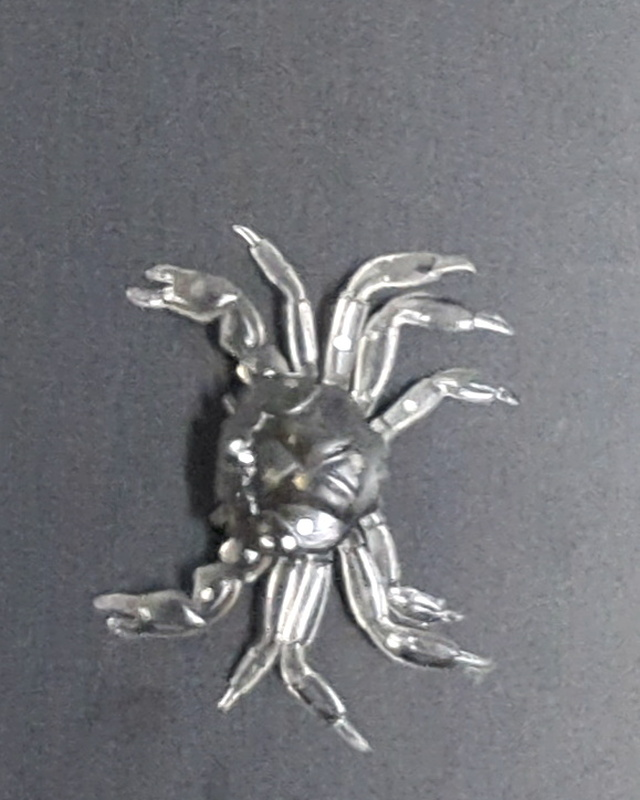crab1: (88, 219, 526, 753)
